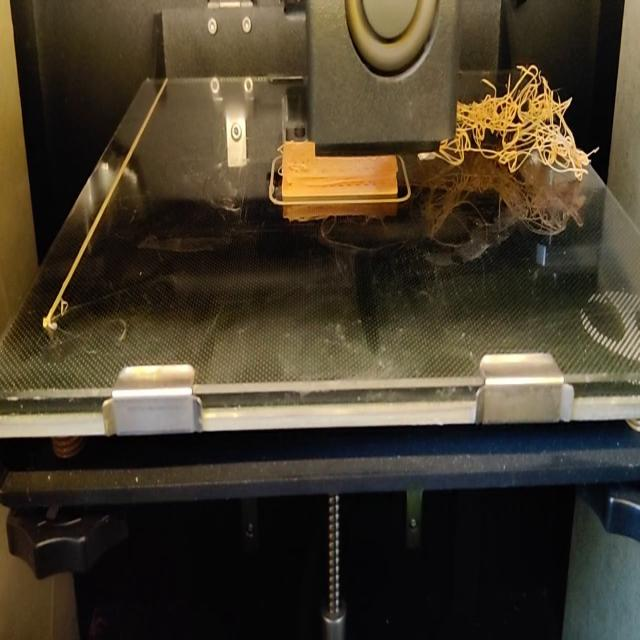spaghetti: (458, 65, 600, 186), (442, 141, 459, 170)
